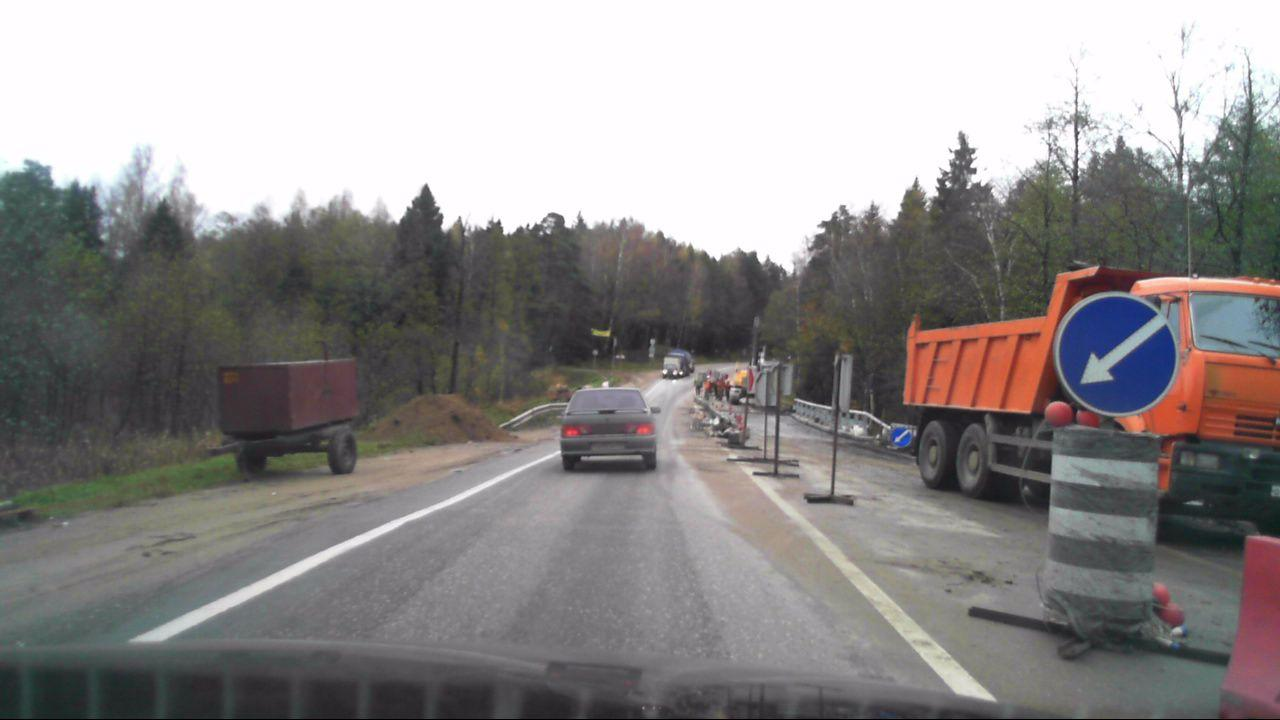4_2_2: (1045, 286, 1178, 422), (890, 427, 911, 448)
